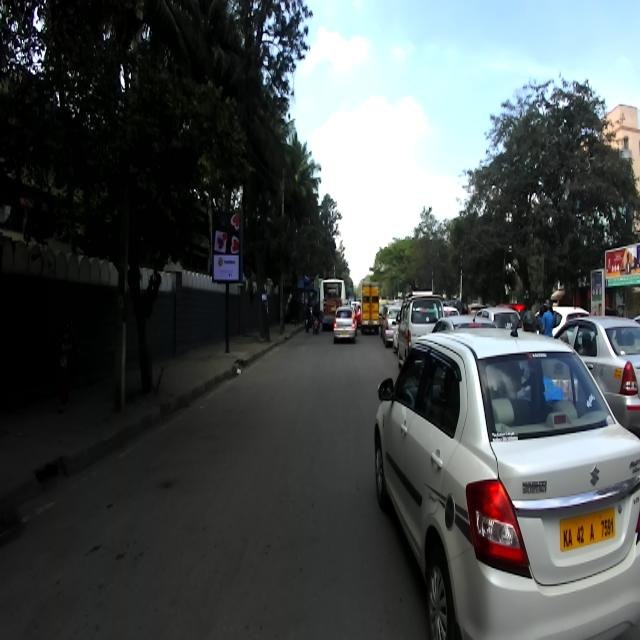car ahead at: (372, 327, 639, 640)
sign board ahead at: (207, 203, 254, 362)
